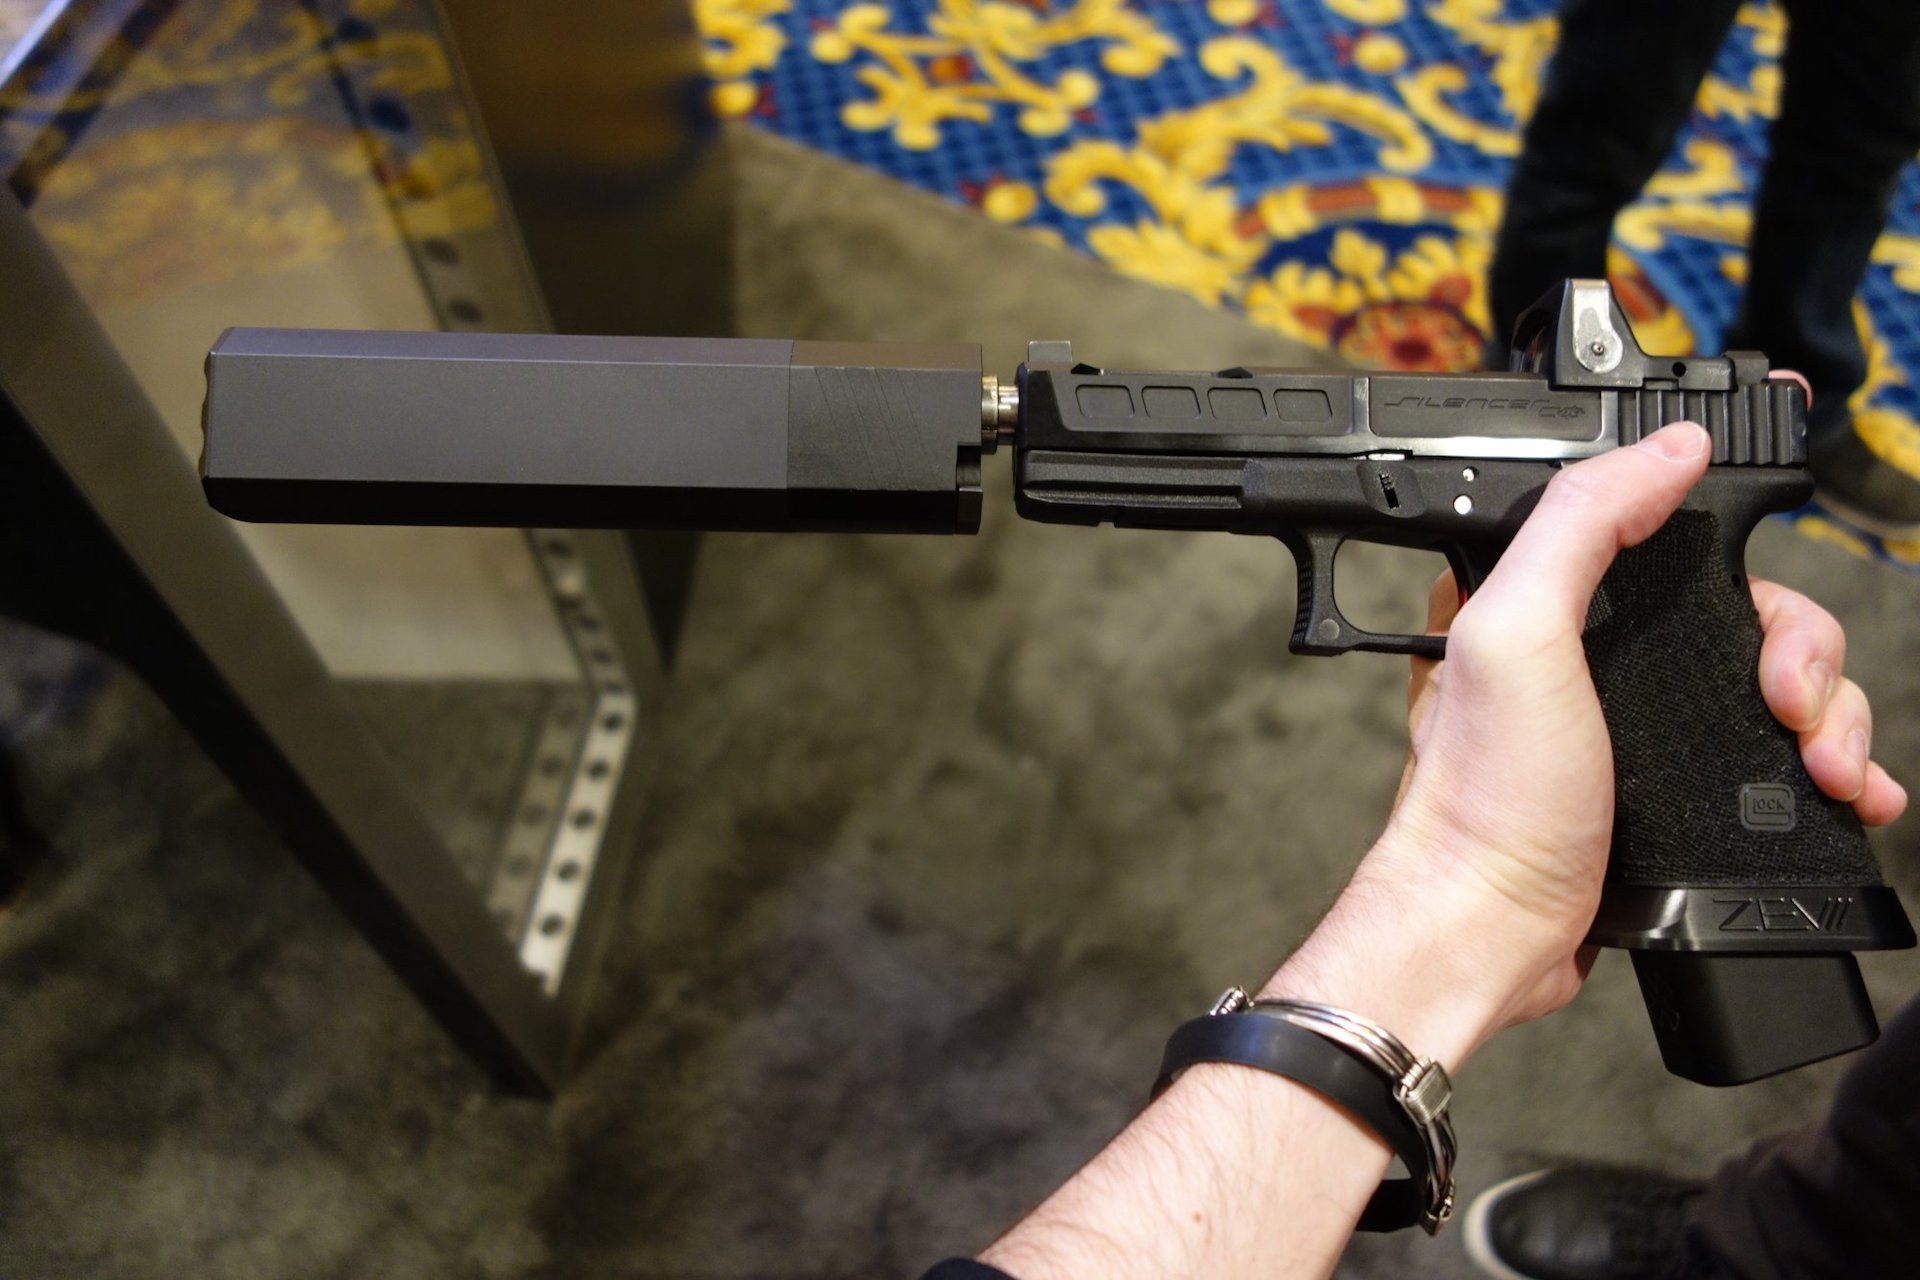pistol: (1014, 276, 1913, 954)
